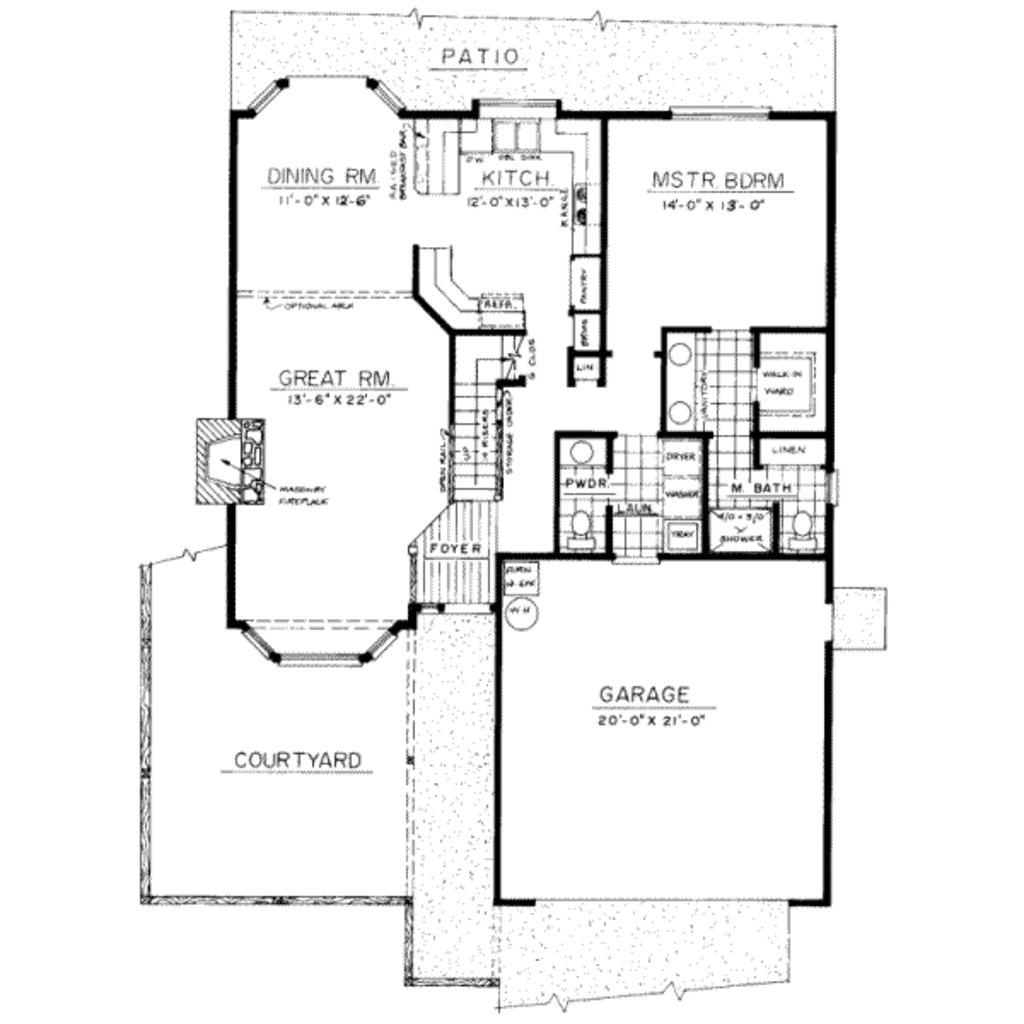large_sink: (556, 493, 605, 555), (782, 506, 818, 555)
small_sink: (663, 331, 703, 433), (557, 439, 615, 467)
stairs: (427, 326, 519, 518)
twin_sink: (477, 108, 552, 167)
window: (237, 67, 283, 130), (354, 615, 397, 681), (356, 71, 410, 122), (229, 615, 275, 668), (653, 105, 772, 122), (275, 650, 365, 671)
